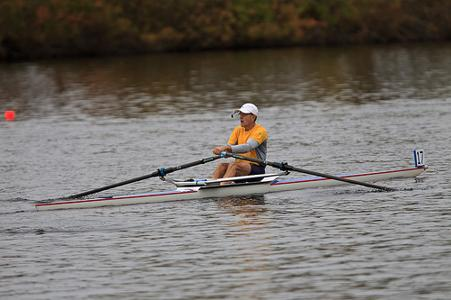person: (211, 103, 268, 186)
